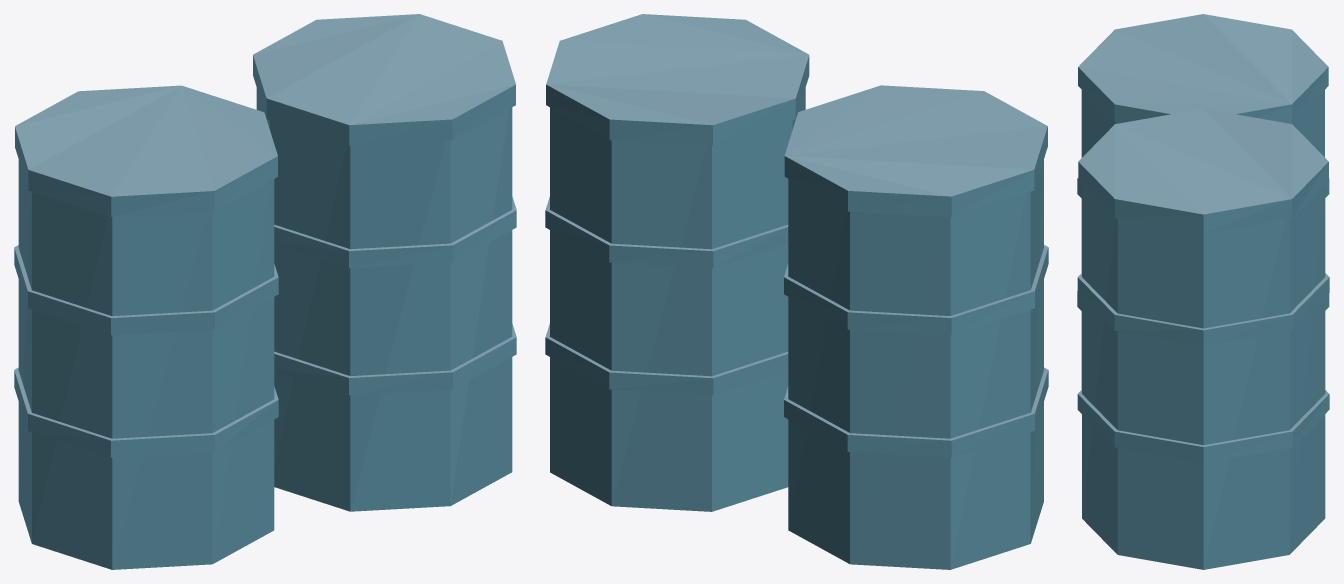
Rendered from barrel-00.glb.
3 renders of one model, left to right at view 1: azimuth 30°, elevation 25°; view 2: azimuth 150°, elevation 25°; view 3: azimuth 270°, elevation 25°, orthographic. The views are drawn at different scales.
Parts seen in each view (by area): view 1: barrel_00; view 2: barrel_00; view 3: barrel_00.
Part boxes in pixels (x1,y1,x2,y2): barrel_00: (14,14,516,569); barrel_00: (545,14,1048,569); barrel_00: (1077,14,1329,569).
Bounding box in the file's own units: 0.7225 × 0.5637 × 0.3607.
